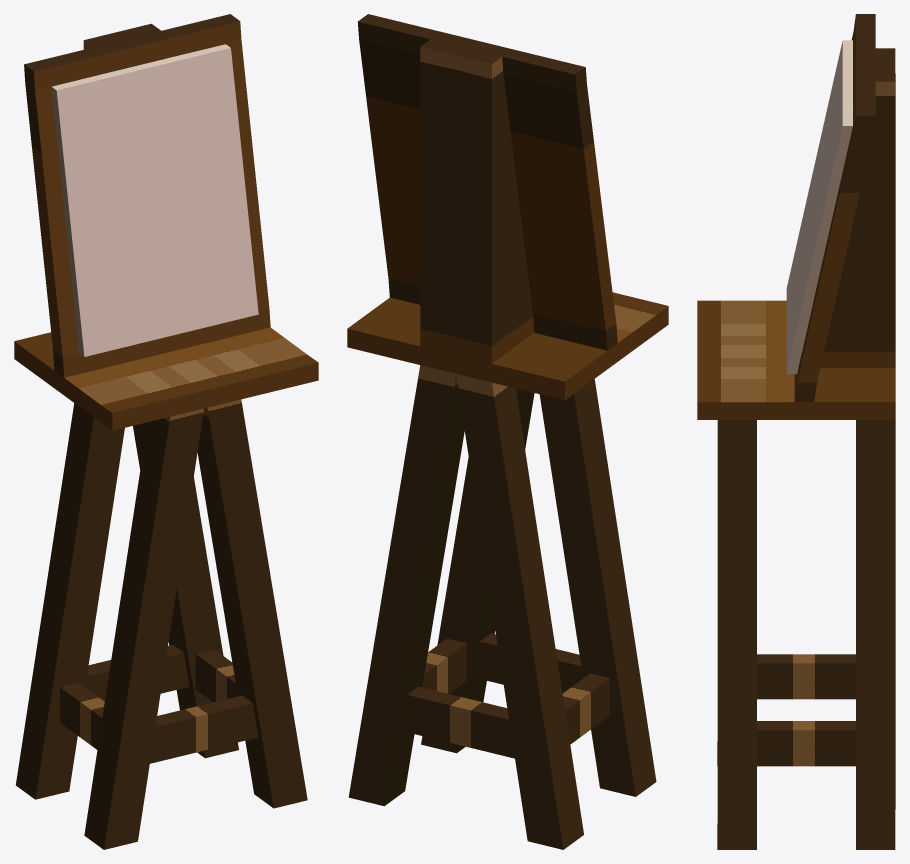
File: easel_837x00.gltf
The picture shows the model from 3 angles, left to right: view 1: azimuth 30°, elevation 25°; view 2: azimuth 150°, elevation 25°; view 3: azimuth 270°, elevation 25°; orthographic projection. The views are drawn at different scales.
Visible parts, largest first — view 1: easel_837x00; view 2: easel_837x00; view 3: easel_837x00.
Part boxes in pixels (left/top/right/bottom): easel_837x00: left=14, top=14, right=318, bottom=849; easel_837x00: left=347, top=14, right=668, bottom=849; easel_837x00: left=697, top=14, right=895, bottom=849.
Bounding box in the file's own units: 1.22 × 4.1 × 1.
Materials: 1 (1 with a texture image).
